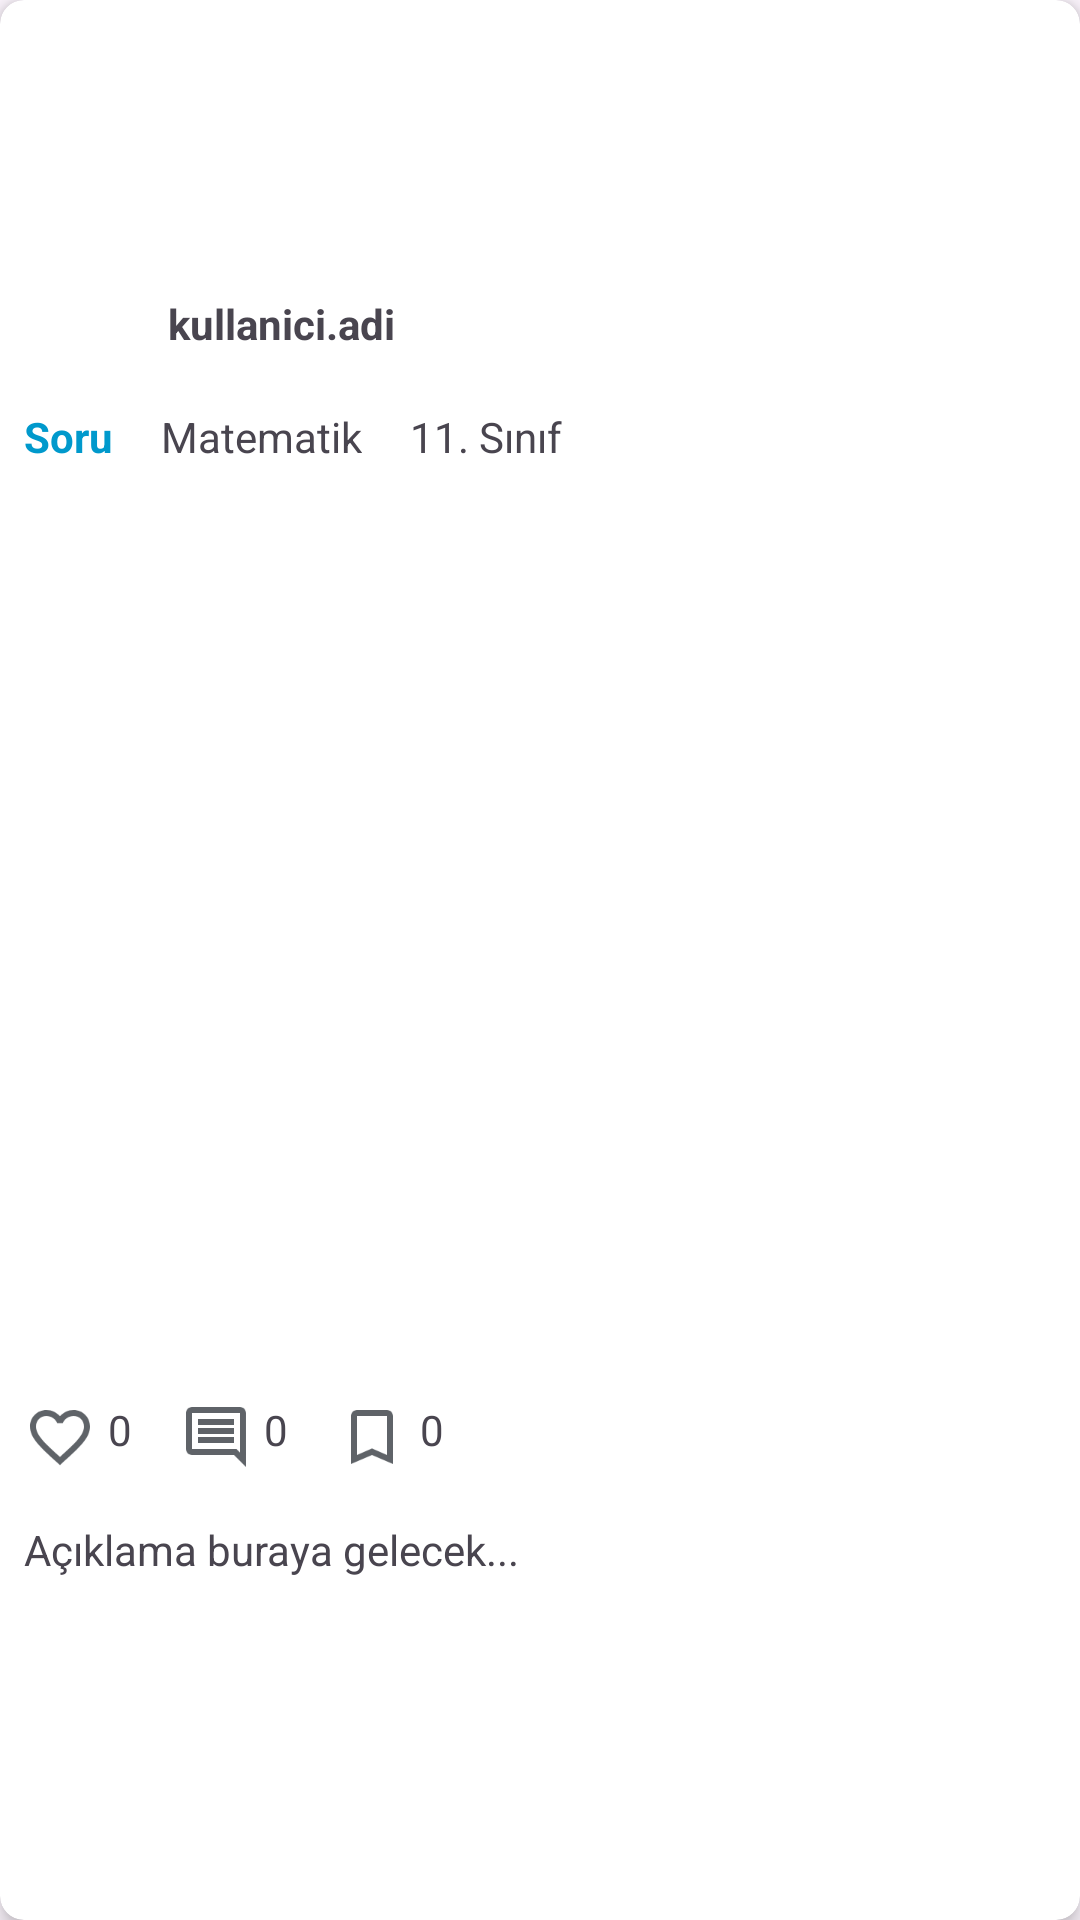

Named icons in this screenshot (1080x1920) and their centers, [x,y]:
bookmark: [372,1437]
comment: [216,1437]
like: [60,1437]
